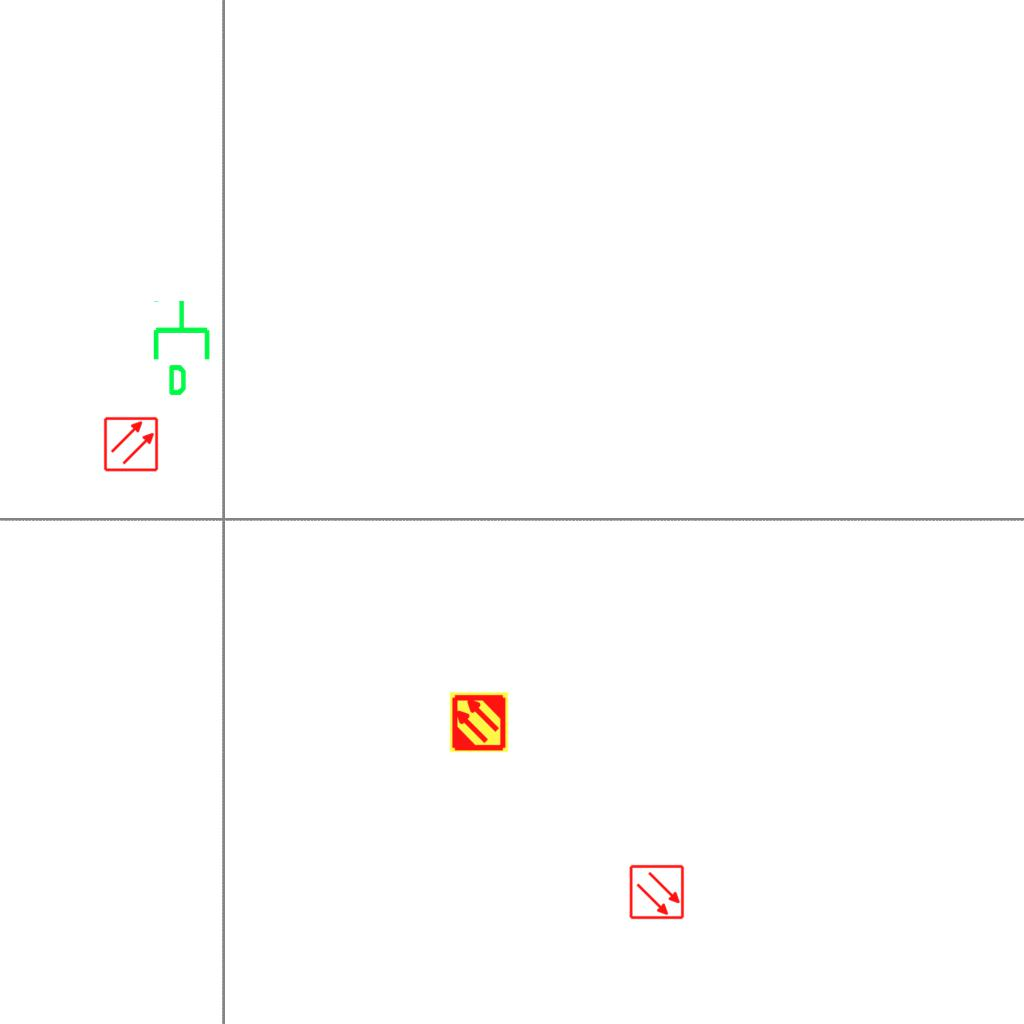ASR_Ansaugrauchmelder: (448, 691, 510, 753)
Datenanschluss_einfach: (149, 298, 218, 398)
RMO_Rauchmelder_optischer: (629, 864, 685, 920), (103, 416, 159, 472)
